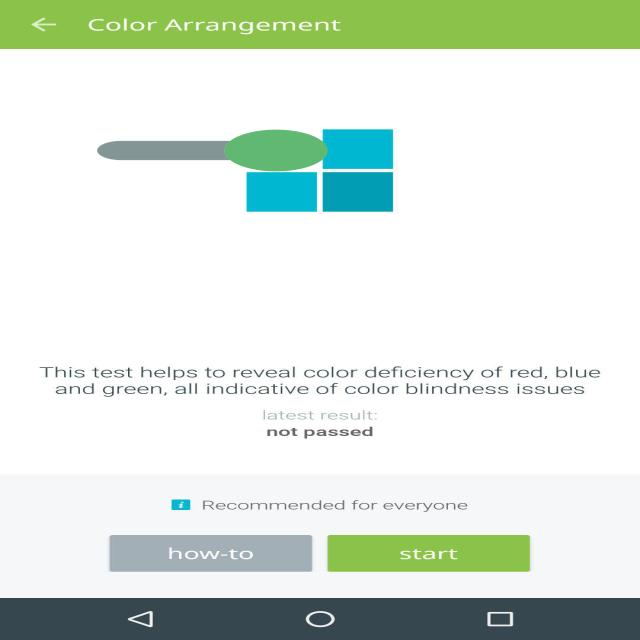social proof: (97, 104, 328, 197)
